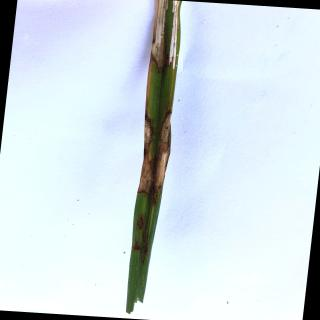Hawar-Daun: (137, 114, 175, 194), (152, 0, 179, 71), (236, 203, 238, 203)
